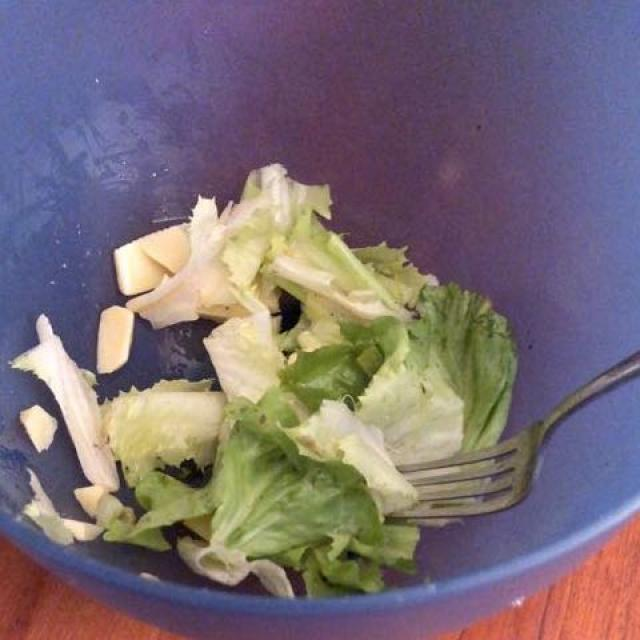cheese: (76, 192, 214, 394)
salad: (10, 178, 533, 590)
